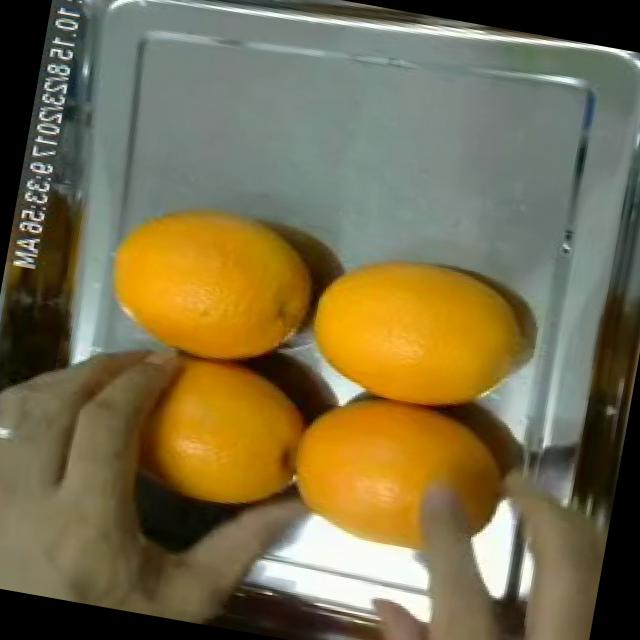Fruit: (81, 178, 299, 382)
